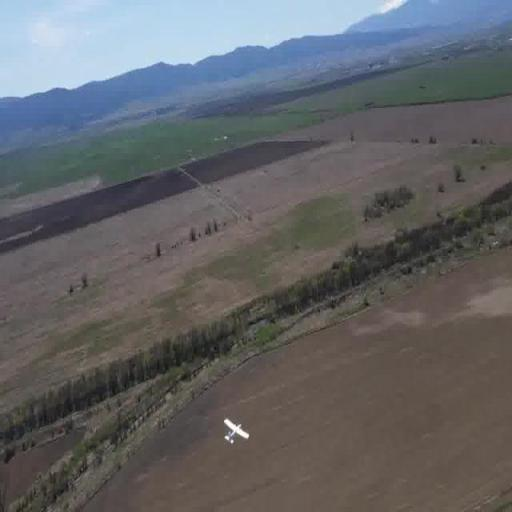uav: (222, 410, 252, 453)
